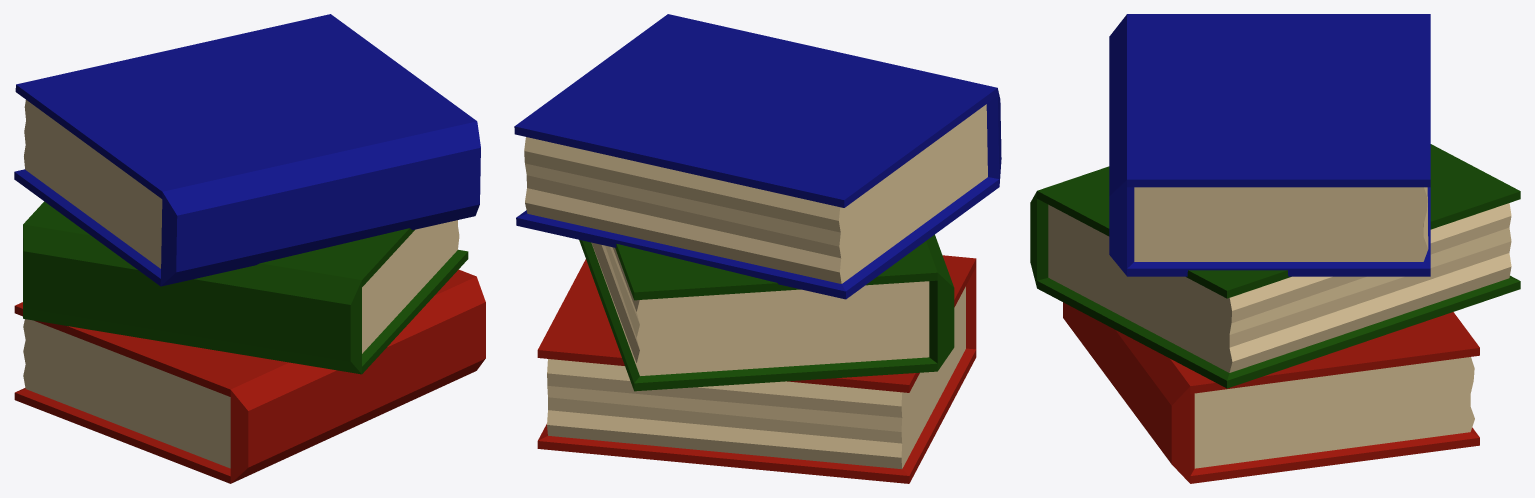
Rendered from books.glb.
3 views of the same model, side by side, from view 1: azimuth 30°, elevation 25°; view 2: azimuth 150°, elevation 25°; view 3: azimuth 270°, elevation 25° (orthographic). The views are drawn at different scales.
Visible parts, largest first — view 1: Book.007, Book.006, Book.005; view 2: Book.007, Book.006, Book.005; view 3: Book.007, Book.005, Book.006.
Part boxes in pixels (x1,y1,x2,y2): Book.007: (14, 14, 480, 286); Book.006: (14, 269, 485, 483); Book.005: (23, 201, 468, 374); Book.007: (514, 14, 1001, 299); Book.006: (537, 255, 976, 483); Book.005: (579, 234, 954, 391); Book.007: (1109, 14, 1430, 276); Book.005: (1030, 144, 1520, 388); Book.006: (1063, 302, 1479, 483).
Size of the model in its own units: 1.07 by 0.7243 by 1.09.
